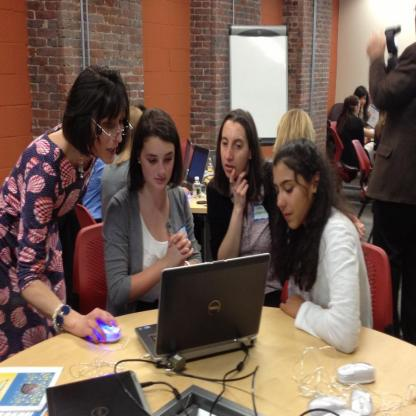board: (142, 257, 274, 368), (46, 370, 152, 415), (178, 146, 210, 194), (181, 138, 192, 180), (210, 149, 217, 174)
